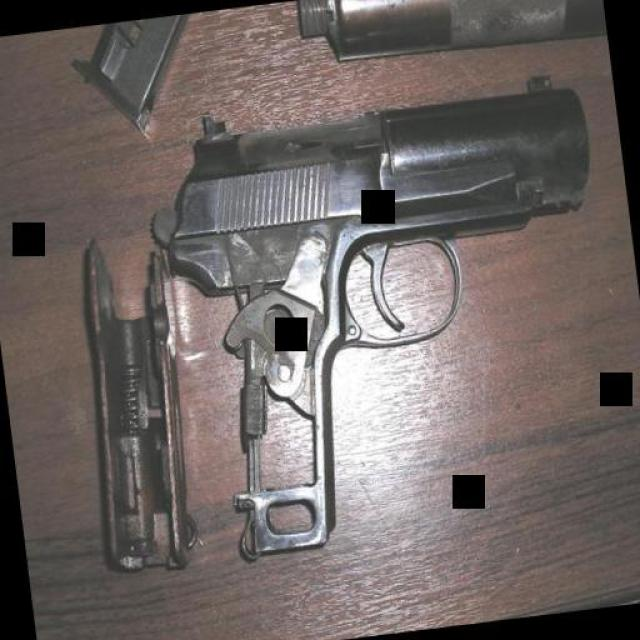gun: (149, 68, 635, 560)
